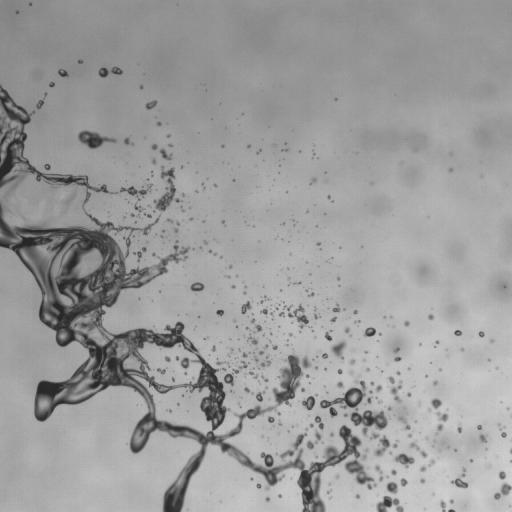droplet: (330, 339, 346, 362), (494, 481, 511, 500), (393, 453, 414, 468), (301, 393, 318, 410), (255, 386, 268, 402), (397, 416, 410, 430), (386, 481, 398, 494), (362, 326, 375, 337), (190, 282, 204, 292), (241, 300, 251, 314), (21, 147, 32, 158), (59, 165, 70, 176), (73, 183, 84, 194), (152, 188, 163, 199), (3, 198, 14, 209), (5, 216, 16, 227), (165, 232, 176, 243), (2, 247, 13, 258), (123, 259, 134, 270), (31, 292, 42, 303), (249, 303, 260, 314), (239, 313, 250, 324), (125, 320, 136, 331), (154, 323, 165, 334), (273, 334, 284, 345), (321, 340, 332, 351), (78, 347, 89, 358), (352, 362, 363, 373), (269, 366, 280, 377), (49, 372, 60, 383), (249, 381, 260, 392), (379, 388, 390, 399), (293, 389, 304, 400), (246, 397, 257, 408), (355, 402, 366, 413), (369, 402, 380, 413), (392, 403, 403, 414), (311, 404, 322, 415), (255, 413, 266, 424), (443, 419, 454, 430), (350, 424, 361, 435), (150, 429, 161, 440), (175, 434, 186, 445), (321, 435, 332, 446), (334, 438, 345, 449), (190, 440, 201, 451), (206, 442, 217, 453), (381, 451, 392, 462), (301, 455, 312, 466), (413, 455, 424, 466), (177, 456, 188, 467), (321, 466, 332, 477), (289, 467, 300, 478), (377, 486, 388, 497), (393, 488, 404, 499), (316, 489, 327, 500), (145, 100, 157, 109), (324, 329, 333, 341), (124, 137, 134, 146), (344, 326, 352, 337), (439, 499, 446, 511), (160, 209, 169, 218), (124, 217, 133, 226), (139, 217, 148, 226), (164, 222, 173, 231), (129, 242, 138, 251), (165, 260, 174, 269), (255, 313, 264, 322), (323, 321, 332, 330), (244, 343, 253, 352), (353, 351, 362, 360), (316, 357, 325, 366), (340, 361, 349, 370), (215, 371, 224, 380), (297, 375, 306, 384), (381, 381, 390, 390), (221, 382, 230, 391), (381, 385, 390, 394), (336, 387, 345, 396), (55, 403, 64, 412), (138, 406, 147, 415), (430, 416, 439, 425), (377, 427, 386, 436), (320, 428, 329, 437), (305, 432, 314, 441), (371, 438, 380, 447), (374, 455, 383, 464), (255, 457, 264, 466), (272, 457, 281, 466), (198, 460, 207, 469), (394, 461, 403, 470), (243, 466, 252, 475), (365, 467, 374, 476), (256, 473, 265, 482), (391, 474, 400, 483), (182, 493, 191, 502), (58, 69, 68, 77), (332, 302, 340, 312), (498, 470, 506, 479), (157, 367, 167, 374), (505, 473, 511, 484), (153, 505, 164, 511), (323, 505, 334, 511), (385, 505, 396, 511), (479, 434, 487, 442), (216, 309, 223, 317), (329, 316, 337, 323), (336, 381, 344, 388), (375, 384, 382, 392), (400, 478, 407, 486), (164, 355, 171, 362), (267, 416, 274, 423), (106, 71, 113, 78), (88, 126, 95, 133), (98, 130, 105, 137), (73, 137, 80, 144), (116, 137, 123, 144), (81, 142, 88, 149), (94, 145, 101, 152), (37, 165, 44, 172), (153, 168, 160, 175), (71, 170, 78, 177), (87, 178, 94, 185), (204, 180, 211, 187), (2, 182, 9, 189), (173, 191, 180, 198), (128, 194, 135, 201), (169, 199, 176, 206), (185, 209, 192, 216), (99, 216, 106, 223), (144, 217, 151, 224), (285, 220, 292, 227), (18, 221, 25, 228), (54, 221, 61, 228), (160, 251, 167, 258), (152, 257, 159, 264), (137, 262, 144, 269), (228, 268, 235, 275), (228, 277, 235, 284), (301, 280, 308, 287), (236, 284, 243, 291), (119, 288, 126, 295), (271, 297, 278, 304), (262, 300, 269, 307), (305, 312, 312, 319), (292, 319, 299, 326), (133, 322, 140, 329), (142, 322, 149, 329), (248, 322, 255, 329), (359, 323, 366, 330), (118, 326, 125, 333), (238, 326, 245, 333), (181, 328, 188, 335), (254, 331, 261, 338), (330, 338, 337, 345), (69, 340, 76, 347), (256, 342, 263, 349), (340, 347, 347, 354), (327, 350, 334, 357), (258, 354, 265, 361), (300, 366, 307, 373), (336, 374, 343, 381), (393, 374, 400, 381), (427, 374, 434, 381), (106, 384, 113, 391), (30, 385, 37, 392), (340, 386, 347, 393), (293, 387, 300, 394), (396, 389, 403, 396), (376, 390, 383, 397), (326, 394, 333, 401), (221, 399, 228, 406), (313, 400, 320, 407), (259, 401, 266, 408), (332, 402, 339, 409), (437, 405, 444, 412), (239, 406, 246, 413), (346, 406, 353, 413), (268, 409, 275, 416), (263, 410, 270, 417), (383, 410, 390, 417), (136, 412, 143, 419), (46, 415, 53, 422), (242, 416, 249, 423), (346, 421, 353, 428), (332, 427, 339, 434), (289, 435, 296, 442), (224, 436, 231, 443), (144, 441, 151, 448), (299, 441, 306, 448), (355, 444, 362, 451), (138, 448, 145, 455), (393, 448, 400, 455), (367, 449, 374, 456), (405, 450, 412, 457), (347, 453, 354, 460), (317, 455, 324, 462), (421, 457, 428, 464), (350, 471, 357, 478), (419, 471, 426, 478), (189, 473, 196, 480), (382, 477, 389, 484), (496, 478, 503, 485), (274, 481, 281, 488), (494, 485, 501, 492), (387, 491, 394, 498), (454, 330, 462, 336), (506, 428, 511, 437), (427, 314, 434, 320), (349, 358, 355, 365), (151, 157, 156, 165), (393, 356, 401, 361), (151, 144, 157, 150), (44, 164, 50, 170), (478, 331, 484, 337), (393, 347, 399, 353), (485, 463, 491, 469), (390, 469, 396, 475), (0, 106, 4, 115), (0, 186, 4, 195), (211, 345, 216, 352), (256, 482, 261, 489), (49, 81, 54, 87), (173, 227, 178, 233), (354, 319, 360, 324), (404, 320, 409, 326), (337, 368, 342, 374), (395, 370, 401, 375), (406, 432, 412, 437), (265, 496, 270, 502), (278, 419, 282, 426), (179, 507, 186, 511), (370, 507, 377, 511), (156, 121, 161, 126), (180, 192, 185, 197), (353, 309, 358, 314), (272, 344, 277, 349), (365, 367, 370, 372), (432, 380, 437, 385), (406, 392, 411, 397), (477, 424, 482, 429), (329, 432, 334, 437), (420, 478, 425, 483), (277, 493, 282, 498), (355, 494, 360, 499), (95, 65, 100, 70), (106, 66, 111, 71), (113, 73, 118, 78), (100, 76, 105, 81), (45, 79, 50, 84), (1, 83, 6, 88), (6, 89, 11, 94), (146, 97, 151, 102), (33, 98, 38, 103), (15, 100, 20, 105), (40, 104, 45, 109), (151, 106, 156, 111), (25, 107, 30, 112), (29, 114, 34, 119), (23, 123, 28, 128), (80, 126, 85, 131), (106, 133, 111, 138), (73, 134, 78, 139), (128, 137, 133, 142), (166, 137, 171, 142), (23, 139, 28, 144), (150, 139, 155, 144), (101, 140, 106, 145), (126, 143, 131, 148), (146, 144, 151, 149), (281, 144, 286, 149), (156, 145, 161, 150), (165, 150, 170, 155), (157, 152, 162, 157), (146, 158, 151, 163), (29, 160, 34, 165), (163, 166, 168, 171), (47, 168, 52, 173), (148, 177, 153, 182), (9, 179, 14, 184), (124, 183, 129, 188), (80, 184, 85, 189), (15, 185, 20, 190), (105, 185, 110, 190), (115, 185, 120, 190), (135, 185, 140, 190), (197, 185, 202, 190), (98, 190, 103, 195), (122, 190, 127, 195), (1, 200, 6, 205), (83, 202, 88, 207), (150, 202, 155, 207), (182, 204, 187, 209), (145, 208, 150, 213), (155, 208, 160, 213), (133, 209, 138, 214), (125, 213, 130, 218), (170, 215, 175, 220), (108, 217, 113, 222), (149, 217, 154, 222), (120, 221, 125, 226), (113, 222, 118, 227), (130, 222, 135, 227), (170, 240, 175, 245), (193, 243, 198, 248), (203, 245, 208, 250), (176, 246, 181, 251), (194, 246, 199, 251), (170, 248, 175, 253), (140, 251, 145, 256), (178, 259, 183, 264), (19, 262, 24, 267), (125, 267, 130, 272), (25, 269, 30, 274), (225, 269, 230, 274), (161, 272, 166, 277), (289, 277, 294, 282), (150, 278, 155, 283), (199, 278, 204, 283), (31, 279, 36, 284), (186, 282, 191, 287), (139, 285, 144, 290), (36, 289, 41, 294), (116, 295, 121, 300), (249, 301, 254, 306), (111, 303, 116, 308), (101, 304, 106, 309), (258, 304, 263, 309), (338, 304, 343, 309), (34, 306, 39, 311), (236, 306, 241, 311), (277, 306, 282, 311), (245, 308, 250, 313), (283, 309, 288, 314), (428, 309, 433, 314), (273, 310, 278, 315), (332, 311, 337, 316), (423, 312, 428, 317), (100, 313, 105, 318), (214, 313, 219, 318), (353, 314, 358, 319), (284, 315, 289, 320), (423, 315, 428, 320), (291, 316, 296, 321), (180, 318, 185, 323), (254, 319, 259, 324), (399, 319, 404, 324), (408, 321, 413, 326), (41, 323, 46, 328), (138, 323, 143, 328), (169, 323, 174, 328), (260, 323, 265, 328), (371, 323, 376, 328), (302, 325, 307, 330), (51, 329, 56, 334), (114, 329, 119, 334), (244, 329, 249, 334), (264, 331, 269, 336), (328, 331, 333, 336), (373, 332, 378, 337), (288, 336, 293, 341), (322, 337, 327, 342), (51, 338, 56, 343), (53, 342, 58, 347), (193, 342, 198, 347), (250, 343, 255, 348), (267, 344, 272, 349), (232, 347, 237, 352), (287, 350, 292, 355), (395, 351, 400, 356), (363, 353, 368, 358), (224, 356, 229, 361), (243, 357, 248, 362), (79, 358, 84, 363), (310, 361, 315, 366), (221, 362, 226, 367), (362, 362, 367, 367), (211, 363, 216, 368), (318, 365, 323, 370), (369, 365, 374, 370), (71, 366, 76, 371), (241, 367, 246, 372), (244, 367, 249, 372), (226, 368, 231, 373), (252, 368, 257, 373), (341, 368, 346, 373), (247, 374, 252, 379), (259, 378, 264, 383), (364, 381, 369, 386), (393, 381, 398, 386), (370, 385, 375, 390), (128, 386, 133, 391), (241, 390, 246, 395), (134, 391, 139, 396), (371, 391, 376, 396), (389, 393, 394, 398), (437, 395, 442, 400), (88, 396, 93, 401), (361, 396, 366, 401), (287, 397, 292, 402), (370, 397, 375, 402), (29, 400, 34, 405), (81, 400, 86, 405), (280, 401, 285, 406), (76, 402, 81, 407), (427, 402, 432, 407), (249, 404, 254, 409), (29, 406, 34, 411), (324, 406, 329, 411), (399, 411, 404, 416), (446, 411, 451, 416), (402, 413, 407, 418), (255, 414, 260, 419), (31, 416, 36, 421), (446, 416, 451, 421), (273, 418, 278, 423), (386, 419, 391, 424), (37, 420, 42, 425), (407, 420, 412, 425), (266, 421, 271, 426), (313, 422, 318, 427), (358, 422, 363, 427), (400, 422, 405, 427), (322, 423, 327, 428), (432, 425, 437, 430), (316, 427, 321, 432), (452, 427, 457, 432), (299, 429, 304, 434), (404, 429, 409, 434), (477, 429, 482, 434), (496, 430, 501, 435), (233, 433, 238, 438), (428, 435, 433, 440), (504, 435, 509, 440), (475, 436, 480, 441), (125, 437, 130, 442), (407, 437, 412, 442), (388, 439, 393, 444), (415, 440, 420, 445), (480, 441, 485, 446), (125, 444, 130, 449), (387, 445, 392, 450), (419, 445, 424, 450), (281, 447, 286, 452), (448, 447, 453, 452), (241, 448, 246, 453), (424, 448, 429, 453), (340, 459, 345, 464), (434, 459, 439, 464), (431, 463, 436, 468), (425, 466, 430, 471), (498, 466, 503, 471), (386, 470, 391, 475), (494, 473, 499, 478), (404, 475, 409, 480), (460, 476, 465, 481), (395, 480, 400, 485), (457, 486, 462, 491), (297, 487, 302, 492), (489, 492, 494, 497), (499, 493, 504, 498), (492, 498, 497, 503), (398, 500, 403, 505), (298, 504, 303, 509), (444, 505, 449, 510), (437, 506, 442, 511), (77, 59, 83, 63), (167, 143, 173, 147), (166, 408, 172, 412), (335, 473, 339, 479), (0, 245, 3, 252), (139, 84, 143, 89), (448, 168, 453, 172), (146, 204, 151, 208), (176, 220, 180, 225), (198, 246, 203, 250), (228, 264, 232, 269), (489, 339, 494, 343), (387, 406, 392, 410), (449, 499, 453, 504), (224, 275, 230, 278), (246, 144, 250, 148), (213, 183, 217, 187), (203, 240, 207, 244), (231, 284, 235, 288), (460, 347, 464, 351), (370, 381, 374, 385), (325, 391, 329, 395), (413, 420, 417, 424), (424, 436, 428, 440), (388, 451, 392, 455), (316, 242, 321, 245), (361, 359, 366, 362), (171, 377, 174, 382), (229, 390, 234, 393), (508, 453, 511, 458), (508, 489, 511, 494), (402, 508, 407, 511), (334, 97, 337, 101), (166, 134, 170, 137), (306, 209, 309, 213), (122, 215, 125, 219), (189, 217, 193, 220), (160, 235, 164, 238), (337, 276, 340, 280), (243, 285, 247, 288), (242, 291, 246, 294), (232, 319, 236, 322), (364, 350, 368, 353), (487, 358, 491, 361), (324, 367, 327, 371), (407, 367, 411, 370), (176, 402, 179, 406), (454, 448, 457, 452), (469, 459, 473, 462), (328, 496, 332, 499), (26, 0, 31, 2), (221, 144, 224, 147), (298, 150, 301, 153), (180, 165, 183, 168), (232, 178, 235, 181), (195, 189, 198, 192), (188, 206, 191, 209), (323, 212, 326, 215), (252, 224, 255, 227), (162, 229, 165, 232), (219, 255, 222, 258), (235, 274, 238, 277), (287, 277, 290, 280), (383, 315, 386, 318), (389, 315, 392, 318), (235, 325, 238, 328), (269, 332, 272, 335), (378, 332, 381, 335), (286, 338, 289, 341), (438, 368, 441, 371), (425, 374, 428, 377), (506, 407, 509, 410), (291, 425, 294, 428), (260, 434, 263, 437), (433, 439, 436, 442), (438, 449, 441, 452), (386, 475, 389, 478), (250, 477, 253, 480), (328, 482, 331, 485), (25, 2, 28, 5), (31, 2, 34, 5), (28, 5, 31, 8), (12, 10, 15, 13), (18, 10, 21, 13), (15, 13, 18, 16), (79, 57, 82, 60), (78, 63, 81, 66), (116, 64, 119, 67), (119, 66, 122, 69), (55, 68, 58, 71), (66, 70, 69, 73), (57, 74, 60, 77), (97, 74, 100, 77), (63, 75, 66, 78), (142, 84, 145, 87), (136, 85, 139, 88), (49, 86, 52, 89), (140, 88, 143, 91), (45, 94, 48, 97), (334, 94, 337, 97), (39, 96, 42, 99), (43, 99, 46, 102), (143, 106, 146, 109), (34, 107, 37, 110), (147, 108, 150, 111), (159, 119, 162, 122), (157, 125, 160, 128), (165, 131, 168, 134), (220, 141, 223, 144), (246, 141, 249, 144), (223, 145, 226, 148), (220, 147, 223, 150), (247, 147, 250, 150), (255, 148, 258, 151), (261, 148, 264, 151), (277, 148, 280, 151), (313, 149, 316, 152), (281, 150, 284, 153), (258, 151, 261, 154), (309, 153, 312, 156), (313, 154, 316, 157), (170, 155, 173, 158), (45, 160, 48, 163), (48, 162, 51, 165), (449, 164, 452, 167), (182, 166, 185, 169), (147, 168, 150, 171), (172, 171, 175, 174), (147, 175, 150, 178), (230, 176, 233, 179), (234, 177, 237, 180), (308, 179, 311, 182), (35, 180, 38, 183), (145, 180, 148, 183), (198, 180, 201, 183), (215, 181, 218, 184), (231, 181, 234, 184), (203, 182, 206, 185), (311, 182, 314, 185), (150, 185, 153, 188), (211, 185, 214, 188), (192, 187, 195, 190), (87, 188, 90, 191), (287, 190, 290, 193), (193, 191, 196, 194), (111, 193, 114, 196), (128, 193, 131, 196), (143, 193, 146, 196), (324, 193, 327, 196), (138, 195, 141, 198), (82, 196, 85, 199), (88, 196, 91, 199), (324, 196, 327, 199), (329, 197, 332, 200), (333, 199, 336, 202), (178, 201, 181, 204), (330, 202, 333, 205), (178, 207, 181, 210), (303, 208, 306, 211), (86, 210, 89, 213), (122, 212, 125, 215), (306, 212, 309, 215), (91, 214, 94, 217), (188, 214, 191, 217), (291, 215, 294, 218), (201, 216, 204, 219), (221, 216, 224, 219), (294, 217, 297, 220), (157, 219, 160, 222), (178, 219, 181, 222), (190, 219, 193, 222), (167, 220, 170, 223), (224, 220, 227, 223), (279, 220, 282, 223), (292, 220, 295, 223), (245, 221, 248, 224), (201, 222, 204, 225), (284, 222, 287, 225), (220, 223, 223, 226), (249, 223, 252, 226), (174, 224, 177, 227), (280, 224, 283, 227), (150, 225, 153, 228), (160, 231, 163, 234), (176, 231, 179, 234), (143, 234, 146, 237), (128, 235, 131, 238), (175, 236, 178, 239), (159, 237, 162, 240), (287, 237, 290, 240), (205, 238, 208, 241), (284, 239, 287, 242), (317, 239, 320, 242), (318, 244, 321, 247), (145, 246, 148, 249), (339, 248, 342, 251), (134, 249, 137, 252), (211, 249, 214, 252), (128, 251, 131, 254), (155, 252, 158, 255), (209, 252, 212, 255), (329, 253, 332, 256), (216, 254, 219, 257), (222, 255, 225, 258), (219, 258, 222, 261), (329, 258, 332, 261), (225, 264, 228, 267), (231, 264, 234, 267), (288, 265, 291, 268), (283, 267, 286, 270), (224, 276, 227, 279), (339, 276, 342, 279), (333, 277, 336, 280), (191, 280, 194, 283), (286, 280, 289, 283), (337, 280, 340, 283), (245, 282, 248, 285), (234, 283, 237, 286), (241, 283, 244, 286), (289, 283, 292, 286), (298, 283, 301, 286), (309, 284, 312, 287), (500, 284, 503, 287), (279, 285, 282, 288), (304, 285, 307, 288), (336, 286, 339, 289), (232, 287, 235, 290), (301, 287, 304, 290), (503, 287, 506, 290), (244, 288, 247, 291), (276, 288, 279, 291), (155, 290, 158, 293), (160, 290, 163, 293), (195, 290, 198, 293), (279, 291, 282, 294), (307, 291, 310, 294), (260, 293, 263, 296), (313, 293, 316, 296), (266, 294, 269, 297), (281, 297, 284, 300), (323, 299, 326, 302), (243, 300, 246, 303), (336, 300, 339, 303), (275, 303, 278, 306), (301, 304, 304, 307), (315, 304, 318, 307), (333, 304, 336, 307), (217, 306, 220, 309), (329, 307, 332, 310), (356, 308, 359, 311), (213, 309, 216, 312), (350, 309, 353, 312), (223, 310, 226, 313), (196, 312, 199, 315), (260, 312, 263, 315), (319, 312, 322, 315), (221, 313, 224, 316), (199, 315, 202, 318), (250, 315, 253, 318), (279, 315, 282, 318), (386, 315, 389, 318), (196, 317, 199, 320), (316, 317, 319, 320), (335, 318, 338, 321), (429, 319, 432, 322), (332, 321, 335, 324), (233, 322, 236, 325), (306, 322, 309, 325), (237, 324, 240, 327), (366, 324, 369, 327), (404, 325, 407, 328), (297, 326, 300, 329), (311, 326, 314, 329), (234, 327, 237, 330), (253, 327, 256, 330), (277, 327, 280, 330), (308, 327, 311, 330), (453, 327, 456, 330), (457, 327, 460, 330), (480, 328, 483, 331), (348, 330, 351, 333), (271, 331, 274, 334), (311, 331, 314, 334), (483, 331, 486, 334), (292, 332, 295, 335), (322, 332, 325, 335), (250, 333, 253, 336), (452, 333, 455, 336), (203, 334, 206, 337), (246, 334, 249, 337), (476, 334, 479, 337), (286, 335, 289, 338), (482, 335, 485, 338), (434, 337, 437, 340), (438, 339, 441, 342), (284, 340, 287, 343), (287, 340, 290, 343), (272, 342, 275, 345), (415, 342, 418, 345), (435, 343, 438, 346), (420, 344, 423, 347), (209, 345, 212, 348), (214, 345, 217, 348), (393, 345, 396, 348), (276, 346, 279, 349), (364, 347, 367, 350), (433, 347, 436, 350), (463, 347, 466, 350), (227, 349, 230, 352), (273, 349, 276, 352), (321, 350, 324, 353), (239, 352, 242, 355), (230, 353, 233, 356), (284, 355, 287, 358), (312, 355, 315, 358), (488, 355, 491, 358), (352, 356, 355, 359), (267, 357, 270, 360), (324, 357, 327, 360), (428, 358, 431, 361), (484, 358, 487, 361), (354, 360, 357, 363), (396, 360, 399, 363), (431, 361, 434, 364), (428, 363, 431, 366), (438, 364, 441, 367), (410, 365, 413, 368), (234, 366, 237, 369), (362, 366, 365, 369), (380, 366, 383, 369), (326, 367, 329, 370), (441, 367, 444, 370), (377, 368, 380, 371), (334, 369, 337, 372), (399, 369, 402, 372), (425, 371, 428, 374), (421, 374, 424, 377), (257, 375, 260, 378), (232, 376, 235, 379), (358, 377, 361, 380), (253, 378, 256, 381), (371, 378, 374, 381), (436, 382, 439, 385), (241, 385, 244, 388), (324, 387, 327, 390), (410, 393, 413, 396), (237, 397, 240, 400), (265, 419, 268, 422), (280, 420, 283, 423), (477, 421, 480, 424), (292, 422, 295, 425), (306, 424, 309, 427), (499, 424, 502, 427), (481, 425, 484, 428), (474, 426, 477, 429), (501, 428, 504, 431), (284, 430, 287, 433), (505, 431, 508, 434), (498, 434, 501, 437), (263, 435, 266, 438), (485, 437, 488, 440), (430, 441, 433, 444), (453, 445, 456, 448), (456, 447, 459, 450), (506, 449, 509, 452), (264, 451, 267, 454), (472, 458, 475, 461), (466, 459, 469, 462), (507, 461, 510, 464), (379, 466, 382, 469), (464, 471, 467, 474), (281, 477, 284, 480), (417, 478, 420, 481), (424, 479, 427, 482), (253, 482, 256, 485), (419, 482, 422, 485), (467, 483, 470, 486), (253, 485, 256, 488), (280, 492, 283, 495), (352, 493, 355, 496), (359, 494, 362, 497), (275, 495, 278, 498), (449, 496, 452, 499), (262, 497, 265, 500), (354, 497, 357, 500), (268, 499, 271, 502), (238, 348, 240, 352), (29, 2, 31, 5), (16, 10, 18, 13), (146, 178, 149, 180), (202, 220, 205, 222), (315, 225, 318, 227), (146, 240, 148, 243), (338, 246, 341, 248), (289, 252, 291, 255), (286, 267, 289, 269), (308, 273, 311, 275), (159, 290, 161, 293), (251, 312, 253, 315), (197, 315, 199, 318), (290, 321, 293, 323), (278, 325, 281, 327), (392, 325, 395, 327), (262, 333, 264, 336), (243, 334, 245, 337), (313, 336, 316, 338), (228, 338, 231, 340), (419, 343, 421, 346), (285, 344, 288, 346), (445, 348, 447, 351), (316, 355, 318, 358), (496, 366, 498, 369), (381, 370, 383, 373), (192, 376, 194, 379), (308, 382, 311, 384), (323, 385, 326, 387), (181, 394, 183, 397), (268, 397, 270, 400), (287, 430, 290, 432), (432, 444, 434, 447), (447, 446, 449, 449), (485, 447, 487, 450), (432, 492, 434, 495), (508, 505, 511, 507), (509, 407, 511, 410), (509, 506, 511, 509), (424, 509, 427, 511), (284, 142, 286, 144), (278, 164, 280, 166), (324, 171, 326, 173), (107, 211, 109, 213), (134, 221, 136, 223), (293, 224, 295, 226), (361, 245, 363, 247), (319, 248, 321, 250), (306, 261, 308, 263), (280, 289, 282, 291), (138, 297, 140, 299), (343, 308, 345, 310), (321, 325, 323, 327), (237, 338, 239, 340), (240, 396, 242, 398), (500, 401, 502, 403), (290, 477, 292, 479), (196, 171, 197, 173), (286, 191, 287, 193), (155, 233, 156, 235), (318, 265, 319, 267), (263, 285, 264, 287), (338, 285, 340, 286), (177, 314, 179, 315), (264, 320, 265, 322), (208, 354, 210, 355), (376, 356, 378, 357), (510, 439, 511, 441), (255, 261, 256, 262), (152, 300, 153, 301), (377, 340, 378, 341), (430, 362, 431, 363)
ligament: (241, 318, 272, 369), (427, 398, 448, 435), (77, 130, 117, 149), (375, 495, 404, 511), (59, 191, 76, 217), (387, 375, 402, 403), (408, 439, 428, 458), (98, 66, 123, 77), (419, 457, 435, 471), (36, 92, 47, 109), (314, 413, 324, 430), (374, 464, 384, 481), (159, 148, 172, 160), (215, 358, 232, 367), (496, 422, 506, 437), (258, 344, 268, 355), (313, 307, 321, 319), (316, 350, 328, 358), (244, 386, 253, 395), (261, 373, 268, 382), (309, 177, 316, 185), (327, 194, 334, 202), (287, 281, 301, 285), (457, 422, 462, 433), (208, 249, 217, 255), (433, 340, 439, 347), (165, 218, 173, 223), (326, 488, 332, 494), (180, 205, 185, 212), (221, 219, 226, 226), (288, 332, 295, 337), (201, 182, 205, 190), (256, 148, 261, 154), (313, 452, 318, 458), (237, 401, 241, 408), (267, 338, 272, 343), (203, 336, 209, 340), (281, 148, 288, 151), (150, 170, 153, 177), (312, 149, 315, 155), (291, 219, 297, 222), (447, 509, 455, 511), (280, 222, 285, 225), (325, 260, 330, 263), (509, 447, 511, 454), (234, 356, 238, 359), (411, 385, 415, 388), (509, 459, 511, 463), (329, 257, 333, 258), (459, 415, 462, 416), (510, 414, 511, 417), (153, 325, 154, 327)
